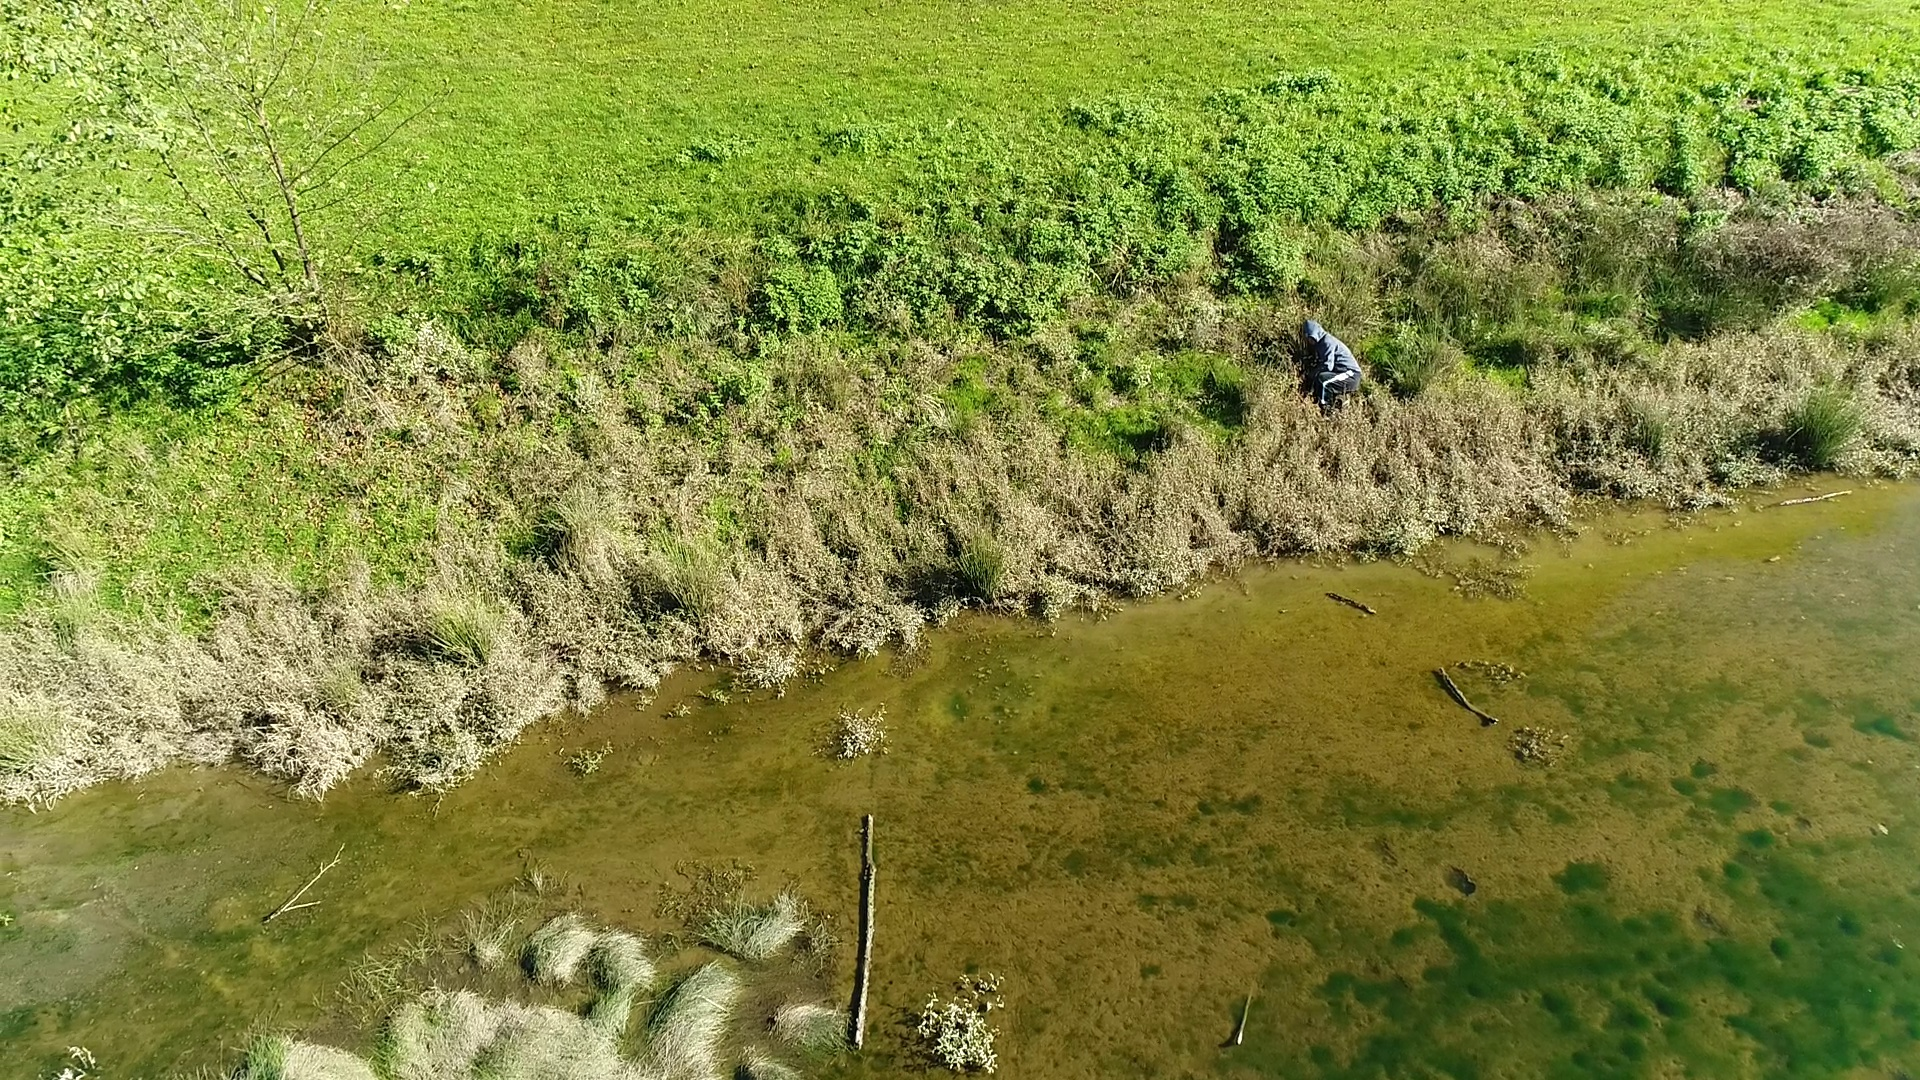not_defined: (1299, 314, 1366, 411)
